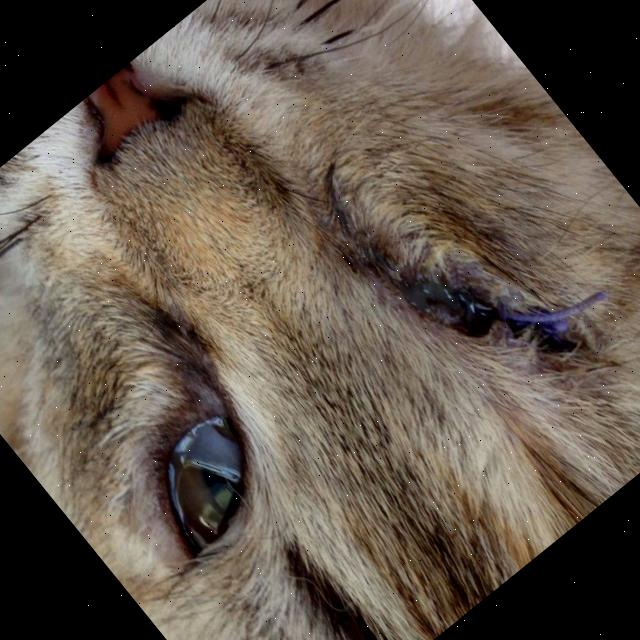cat-eye: (288, 101, 598, 426), (68, 320, 342, 602)
